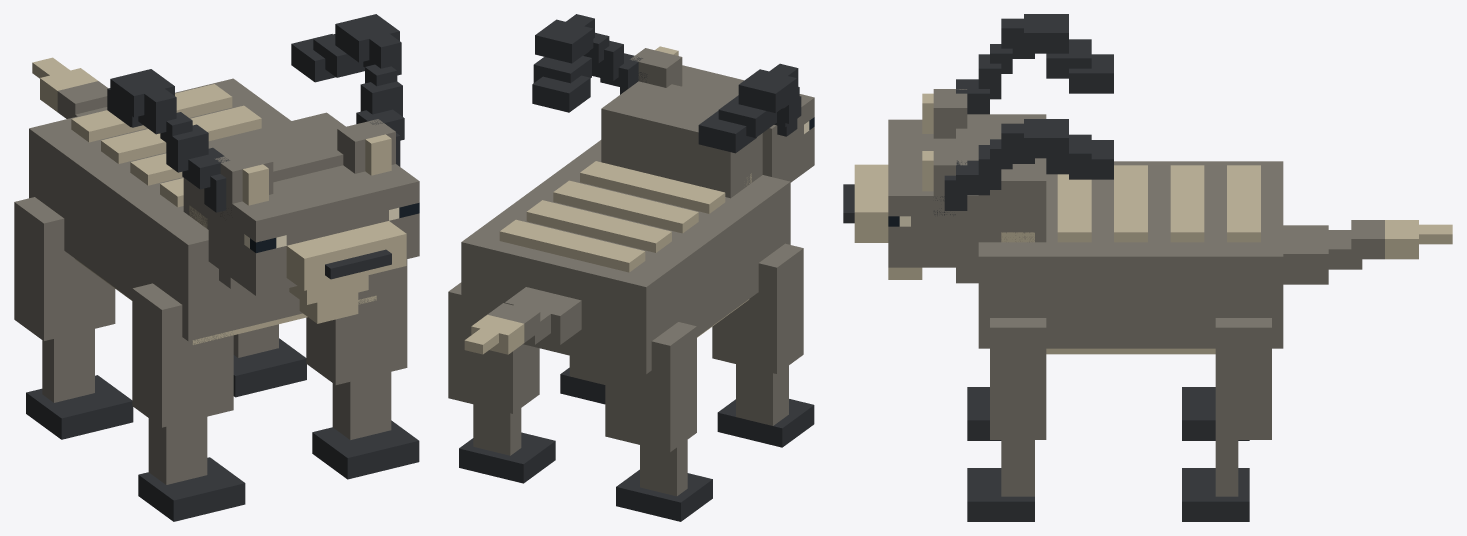
File: ash_goat.glb
3 renders of one model, left to right at view 1: azimuth 30°, elevation 25°; view 2: azimuth 150°, elevation 25°; view 3: azimuth 270°, elevation 25°, orthographic. The views are drawn at different scales.
Parts seen in each view (by area): view 1: ash_goat/thorax, ash_goat/head, ash_goat/left_foreleg, ash_goat/left_hindleg, ash_goat/right_foreleg, ash_goat/horn_1, ash_goat/horn_-1, ash_goat/neck, ash_goat/right_hindleg, ash_goat/tail, ash_goat/head_ear_r, ash_goat/head_ear_l (+1 smaller); view 2: ash_goat/thorax, ash_goat/left_hindleg, ash_goat/left_foreleg, ash_goat/neck, ash_goat/right_hindleg, ash_goat/horn_1, ash_goat/horn_-1, ash_goat/tail, ash_goat/head, ash_goat/right_foreleg, ash_goat/head_ear_r; view 3: ash_goat/thorax, ash_goat/head, ash_goat/right_foreleg, ash_goat/right_hindleg, ash_goat/horn_1, ash_goat/horn_-1, ash_goat/tail, ash_goat/neck, ash_goat/head_ear_l, ash_goat/left_hindleg, ash_goat/head_ear_r, ash_goat/left_foreleg.
Boxes of the visible parts, <box> form: ash_goat/thorax: <box>29,78,392,344</box>; ash_goat/head: <box>208,164,419,295</box>; ash_goat/left_foreleg: <box>132,283,245,521</box>; ash_goat/left_hindleg: <box>14,197,133,439</box>; ash_goat/right_foreleg: <box>306,259,419,479</box>; ash_goat/horn_1: <box>291,14,404,166</box>; ash_goat/horn_-1: <box>107,69,231,216</box>; ash_goat/neck: <box>183,112,345,288</box>; ash_goat/right_hindleg: <box>233,324,306,397</box>; ash_goat/tail: <box>32,57,107,118</box>; ash_goat/head_ear_r: <box>337,119,395,175</box>; ash_goat/head_ear_l: <box>215,149,273,211</box>; ash_goat/thorax: <box>461,140,790,374</box>; ash_goat/left_hindleg: <box>605,322,712,521</box>; ash_goat/left_foreleg: <box>712,243,814,447</box>; ash_goat/neck: <box>601,81,762,198</box>; ash_goat/right_hindleg: <box>448,282,555,483</box>; ash_goat/horn_1: <box>532,14,647,112</box>; ash_goat/horn_-1: <box>698,63,801,153</box>; ash_goat/tail: <box>464,287,581,354</box>; ash_goat/head: <box>682,65,814,182</box>; ash_goat/right_foreleg: <box>560,355,605,404</box>; ash_goat/head_ear_r: <box>630,46,682,87</box>; ash_goat/thorax: <box>978,161,1283,354</box>; ash_goat/head: <box>843,119,978,267</box>; ash_goat/right_foreleg: <box>967,318,1046,521</box>; ash_goat/right_hindleg: <box>1182,318,1271,521</box>; ash_goat/horn_1: <box>933,119,1113,215</box>; ash_goat/horn_-1: <box>956,14,1113,114</box>; ash_goat/tail: <box>1283,220,1452,284</box>; ash_goat/neck: <box>956,114,1046,283</box>; ash_goat/head_ear_l: <box>922,89,967,138</box>; ash_goat/left_hindleg: <box>1182,387,1249,440</box>; ash_goat/head_ear_r: <box>922,146,967,195</box>; ash_goat/left_foreleg: <box>967,387,1001,440</box>.
Bounding box in the file's own units: 0.8125 × 1.19 × 1.69.
